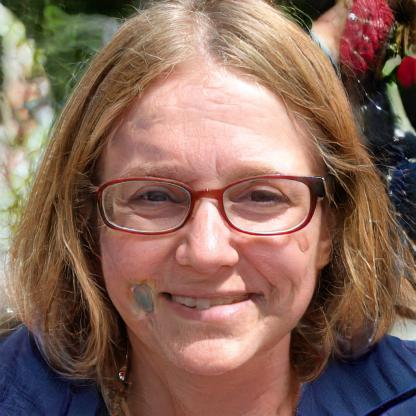glasses: (92, 170, 322, 242)
